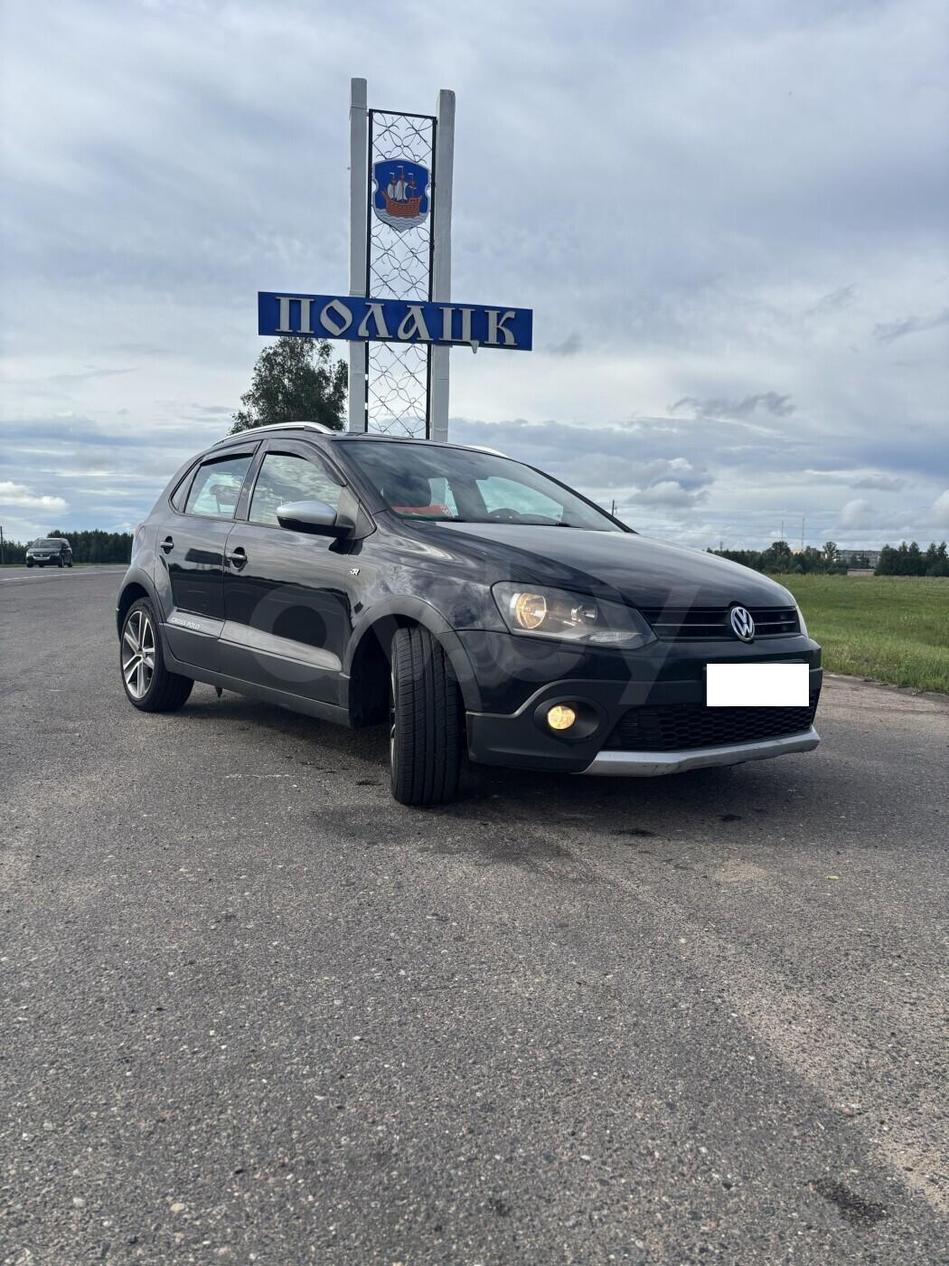Polo_2009-2015: (65, 399, 822, 809)
